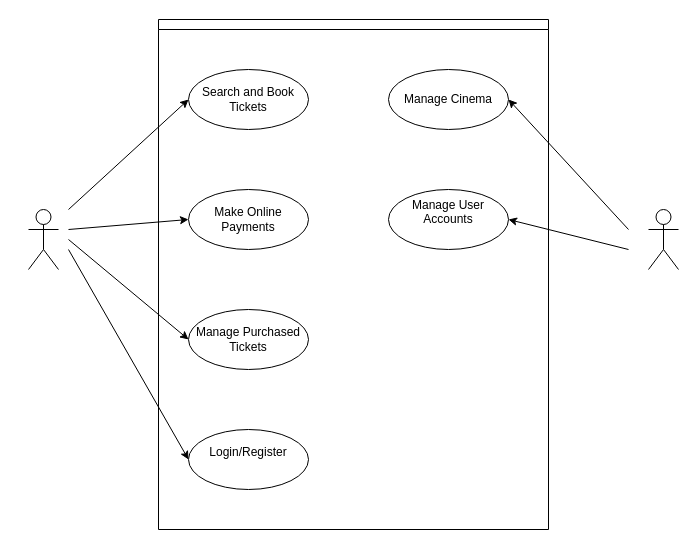
This 697x547 diagram has some shape labels left out. Each missing label, with the box of its shape:
Admin: (648, 208, 678, 270)
Customer: (28, 208, 58, 270)
Ticket Booking System: (158, 18, 548, 530)
